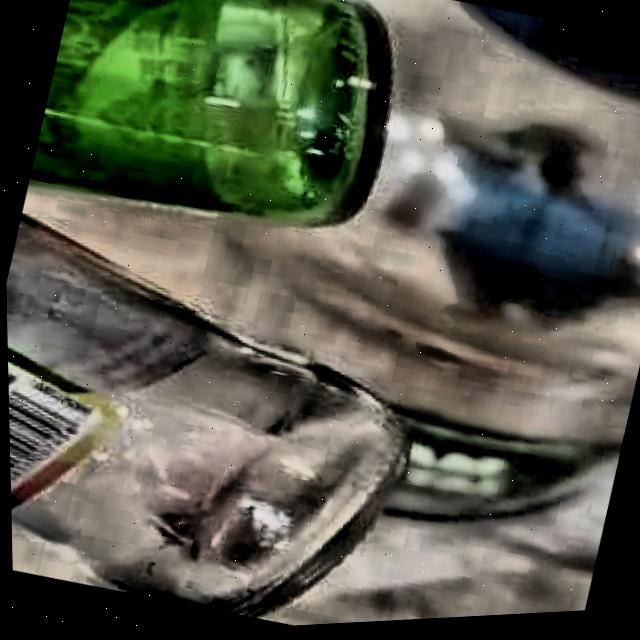glass: (5, 217, 396, 620)
